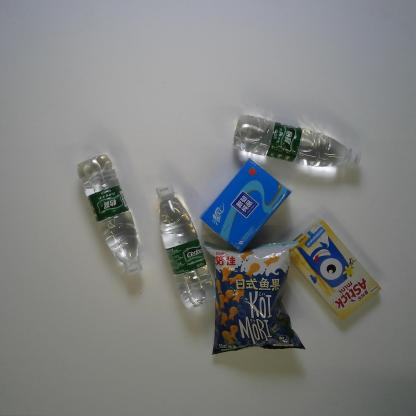Dessert: (286, 219, 381, 322)
Drink: (76, 153, 144, 276), (154, 183, 217, 310), (230, 114, 364, 169)
Puffed Food: (201, 239, 306, 357)
Tissue: (198, 156, 292, 253)
